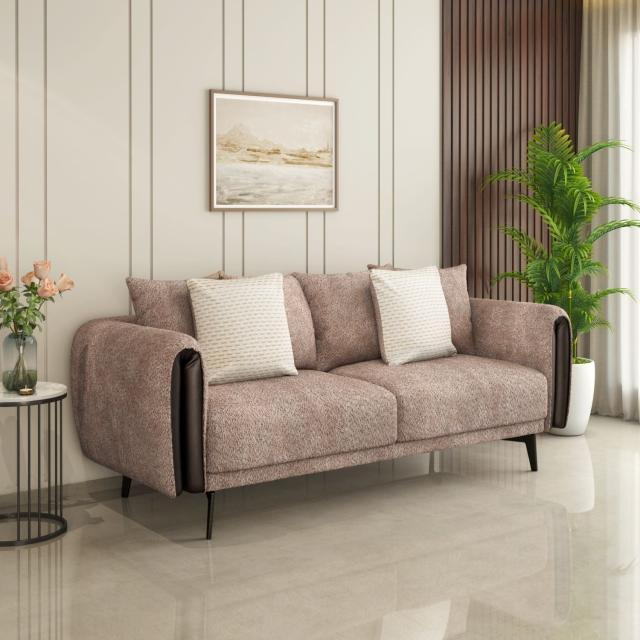sofa: (69, 264, 571, 540)
